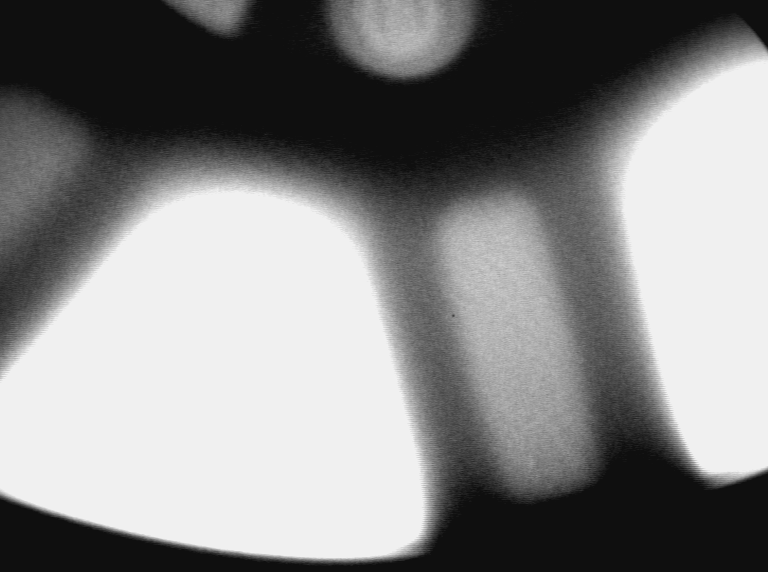defect: (519, 446, 544, 477)
